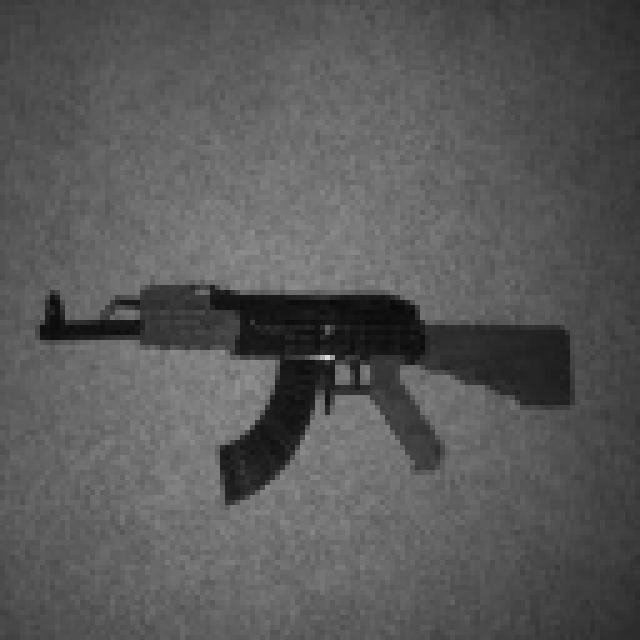Rifle: (0, 257, 588, 521)
